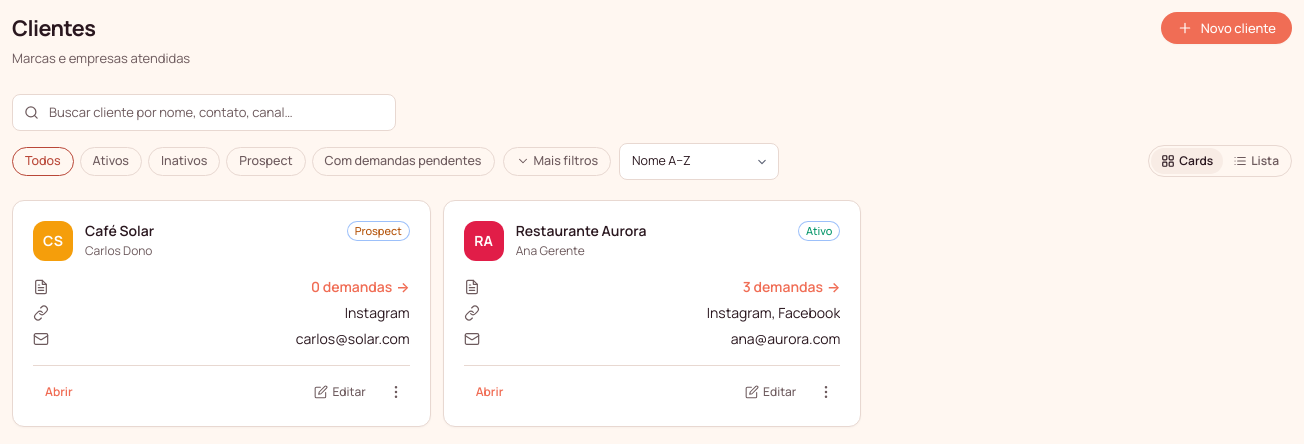
Scenario: Clients Feature — B3 Functional Wiring › filters clients list in memory using search input
Type "Solar" into the field with placeholder "Buscar cliente por nome, contato, canal…" at (204, 112), box x1=12 y1=94 x2=396 y2=131
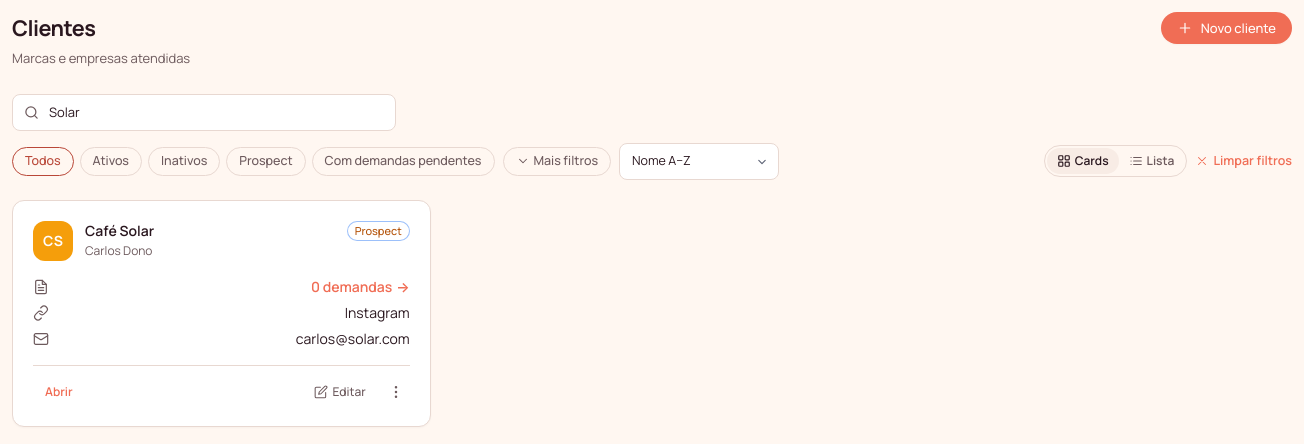
expect the text "Café Solar" is shown: met, box x1=85 y1=221 x2=154 y2=241
expect the text "Restaurante Aurora" is gone: met
